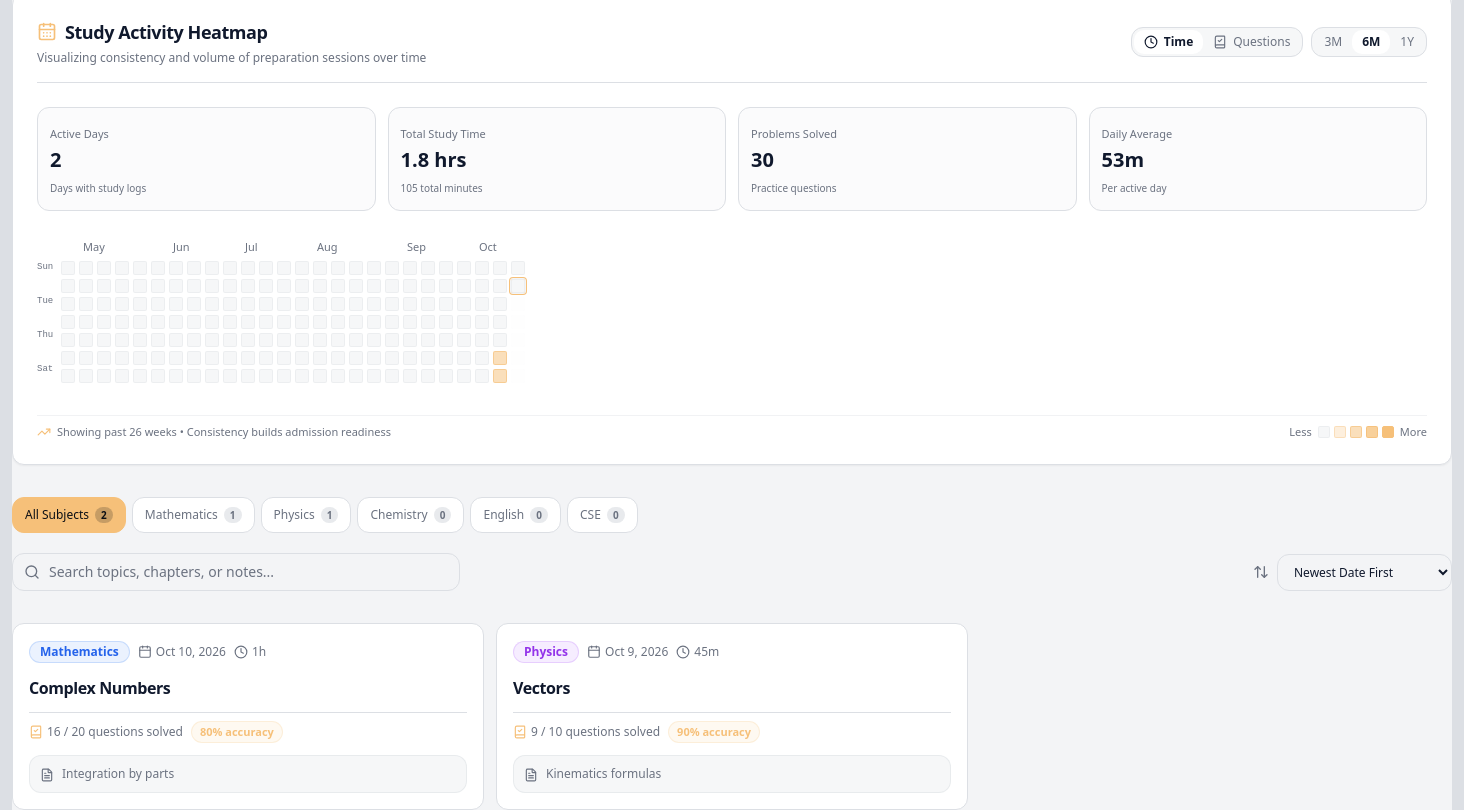
Test case: StudyLogPage › filters sessions by search query keyword
(page scrolled)
Expected: the heading "Complex Numbers" is shown, [29,677,170,699]
Type "Kinematics" into the field with placeholder "Search topics, chapters, or notes..." at (236, 572), box [12,553,460,591]
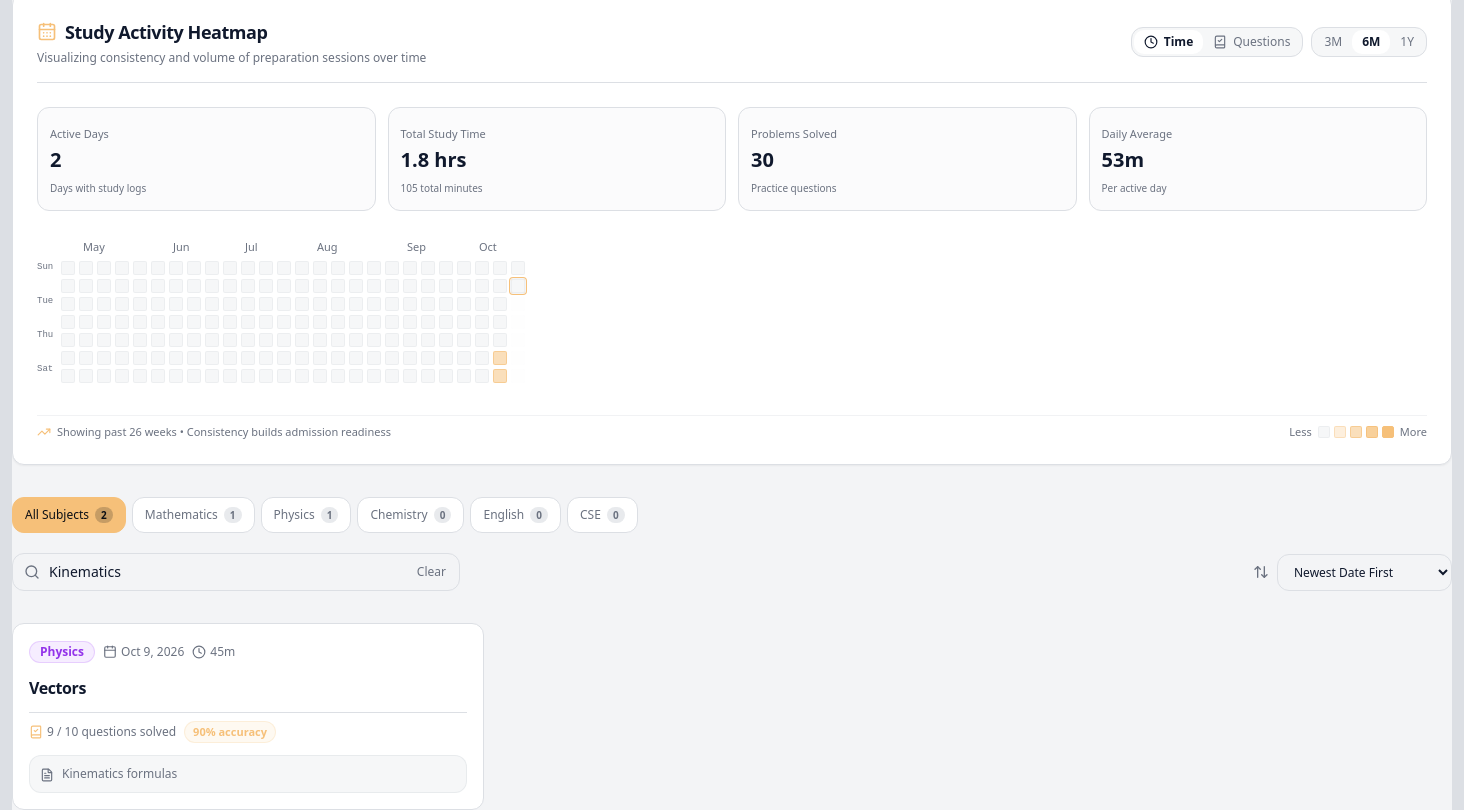
Expected: the heading "Vectors" is shown, [29,677,86,699]
Result: the heading "Complex Numbers" is gone
